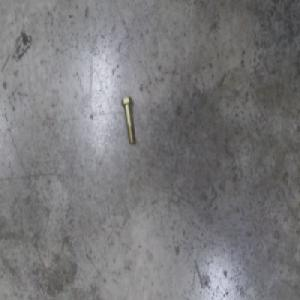Bolt: (121, 94, 134, 143)
